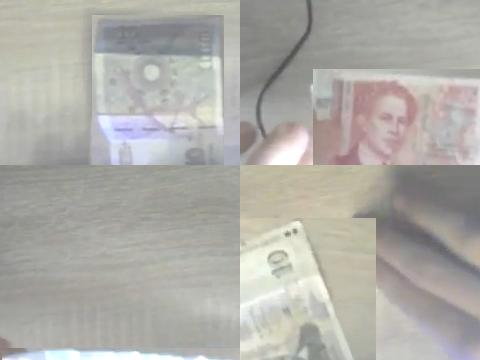10leva: (92, 15, 224, 165), (240, 218, 357, 360)
5leva: (330, 69, 480, 165)
